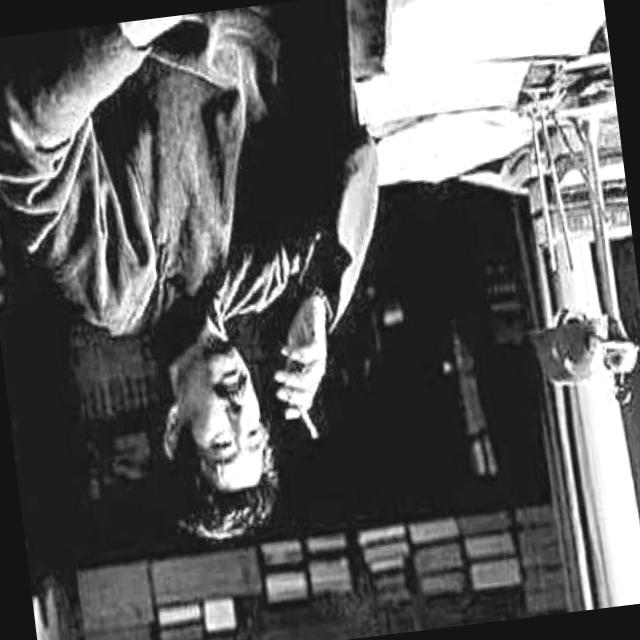cigarette: (272, 351, 325, 454)
